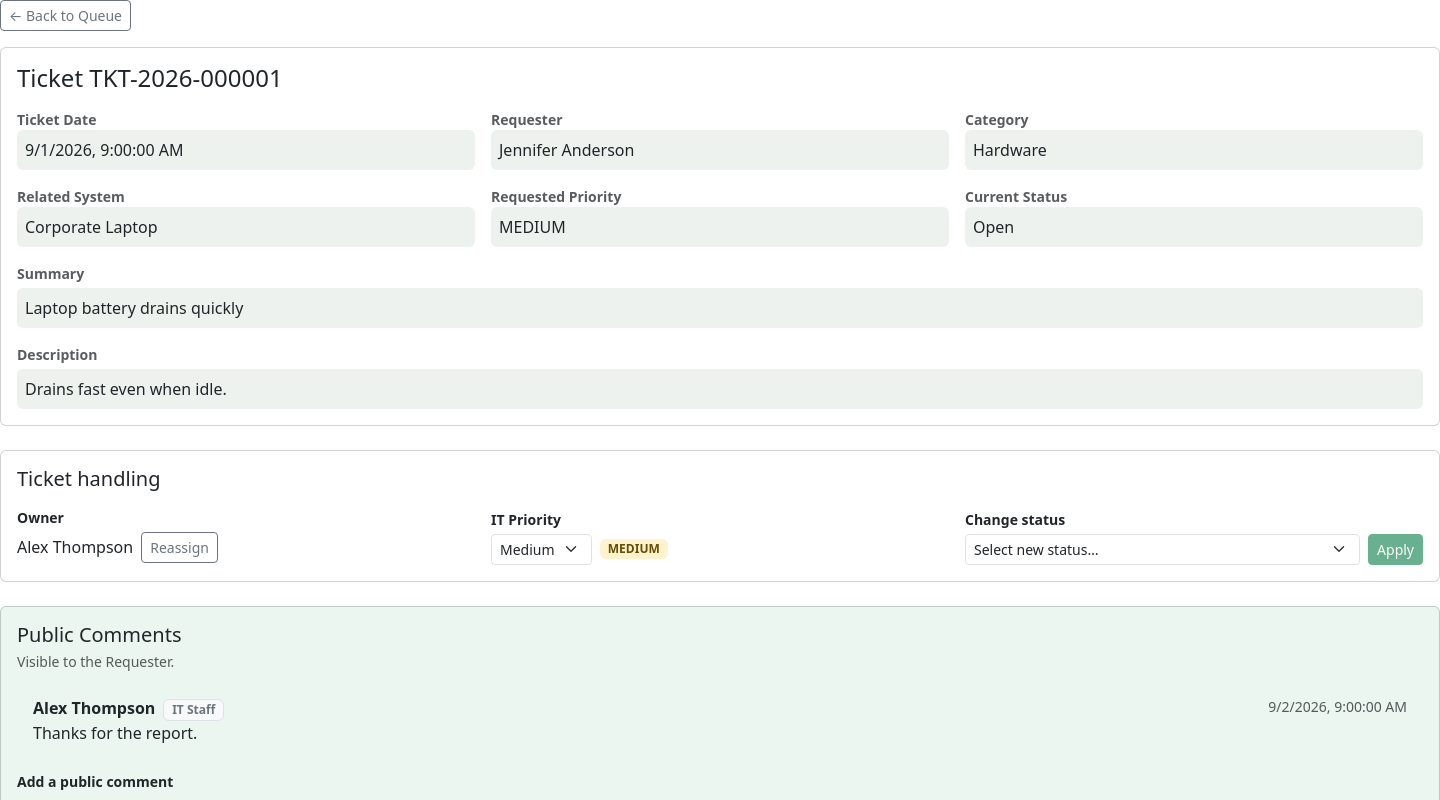
Test: StaffTicketDetail › shows a safe error when a status change is rejected
Check: the heading "Ticket TKT-2026-000001" is shown, box [17, 61, 283, 94]
Select "In Progress" in the dropdown labelled "Change status" at (1163, 549), box [965, 534, 1360, 565]
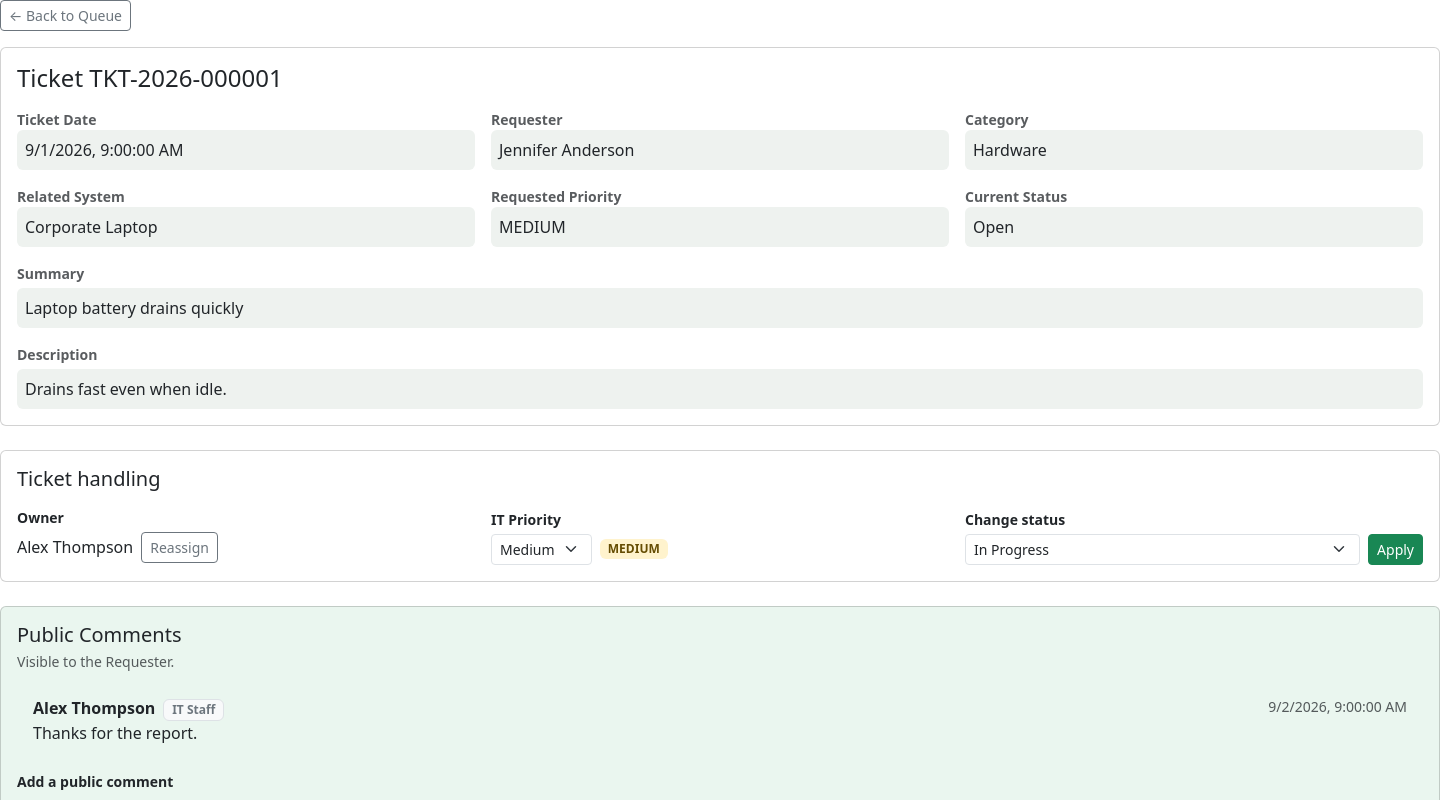
Click the button "Apply".
click(1396, 549)  # box [1368, 534, 1423, 565]
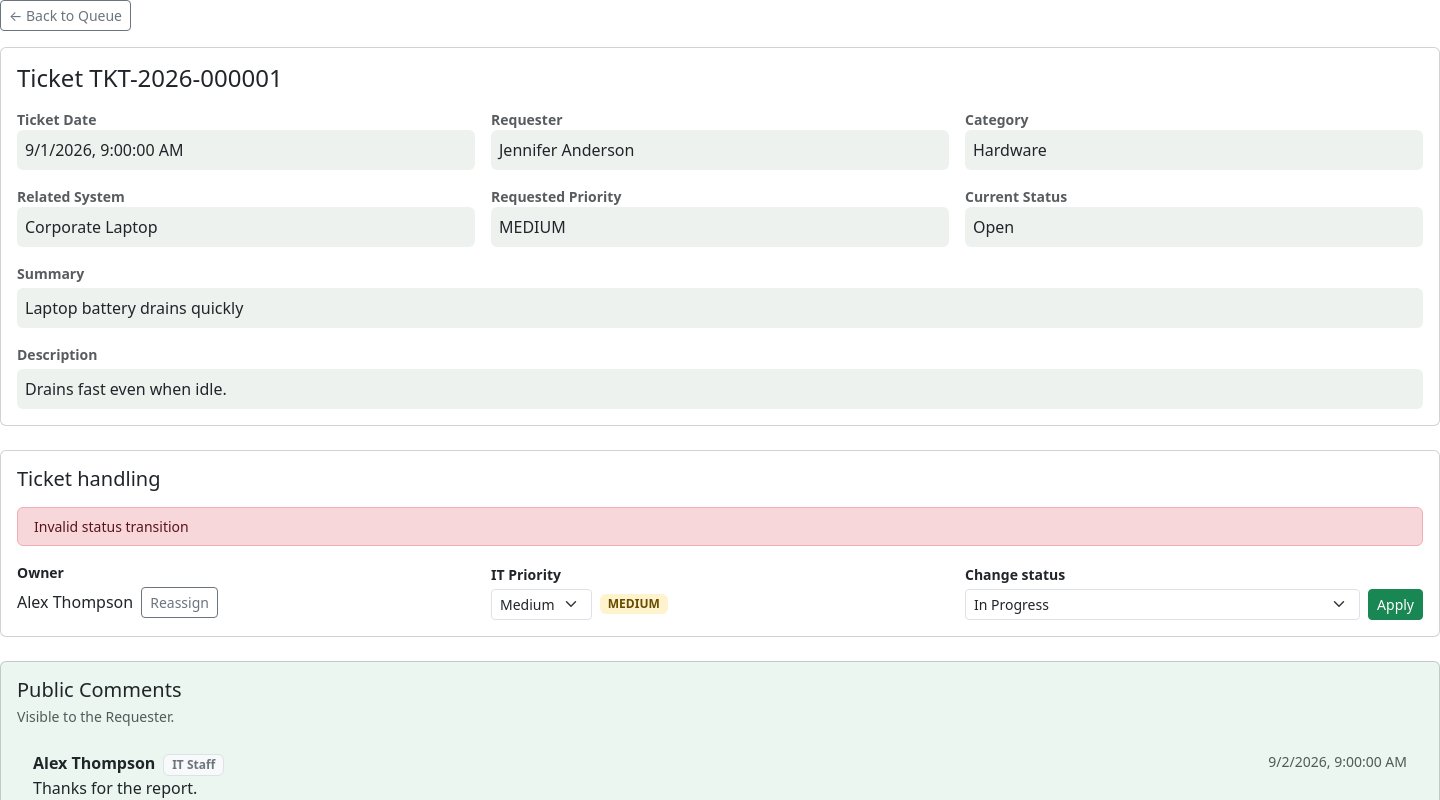
Check: the message reads "Invalid status transition", box [34, 517, 189, 536]
